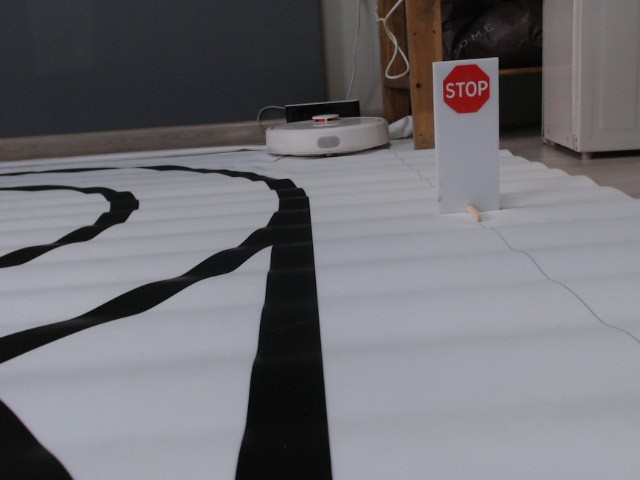Stop: (441, 62, 491, 114)
